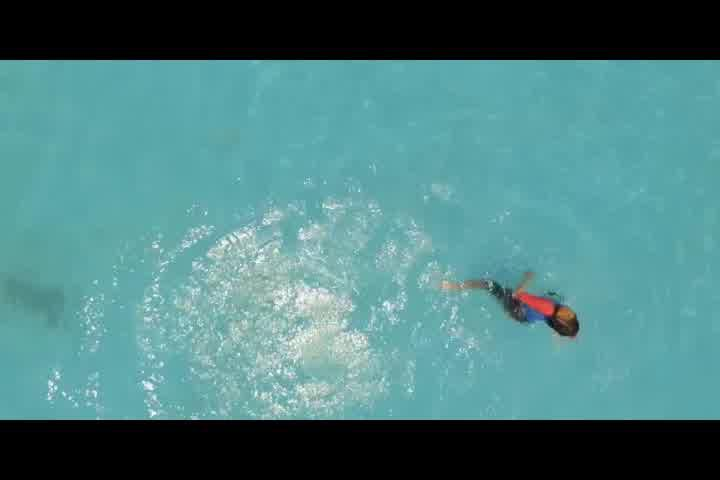swimmer: (446, 268, 580, 344)
